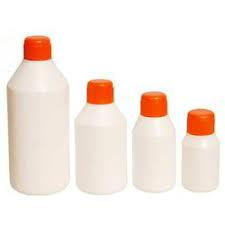Container for household chemicals: (12, 38, 71, 206), (73, 61, 128, 206), (134, 72, 178, 201), (183, 90, 223, 193)
